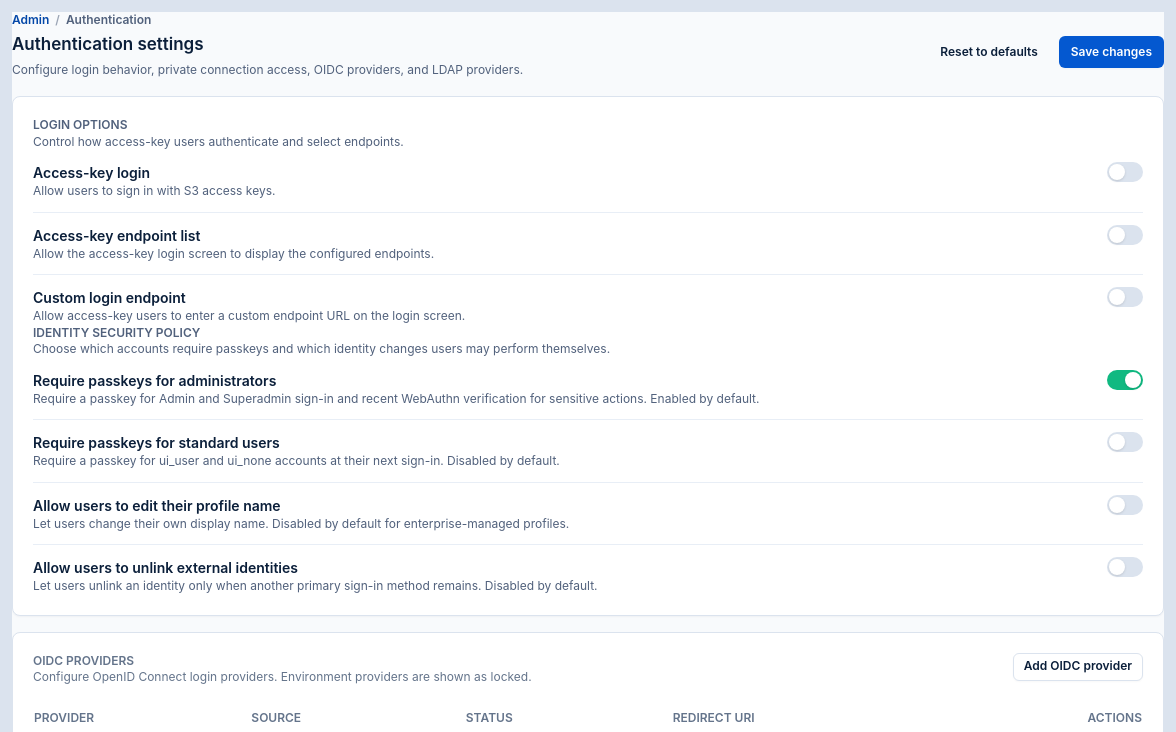
it: AuthenticationSettingsPage › shows the custom endpoint warning only when custom endpoint login is enabled
The width and height of the screenshot is (1176, 732).
Expected: the text "custom endpoints are restricted to public https targets" is not shown
What coordinates should you click on to do the following:
click the checkbox named "Custom login endpoint"
I would click on:
 (1125, 297)
Its box is top-left (1107, 287), bottom-right (1143, 307).
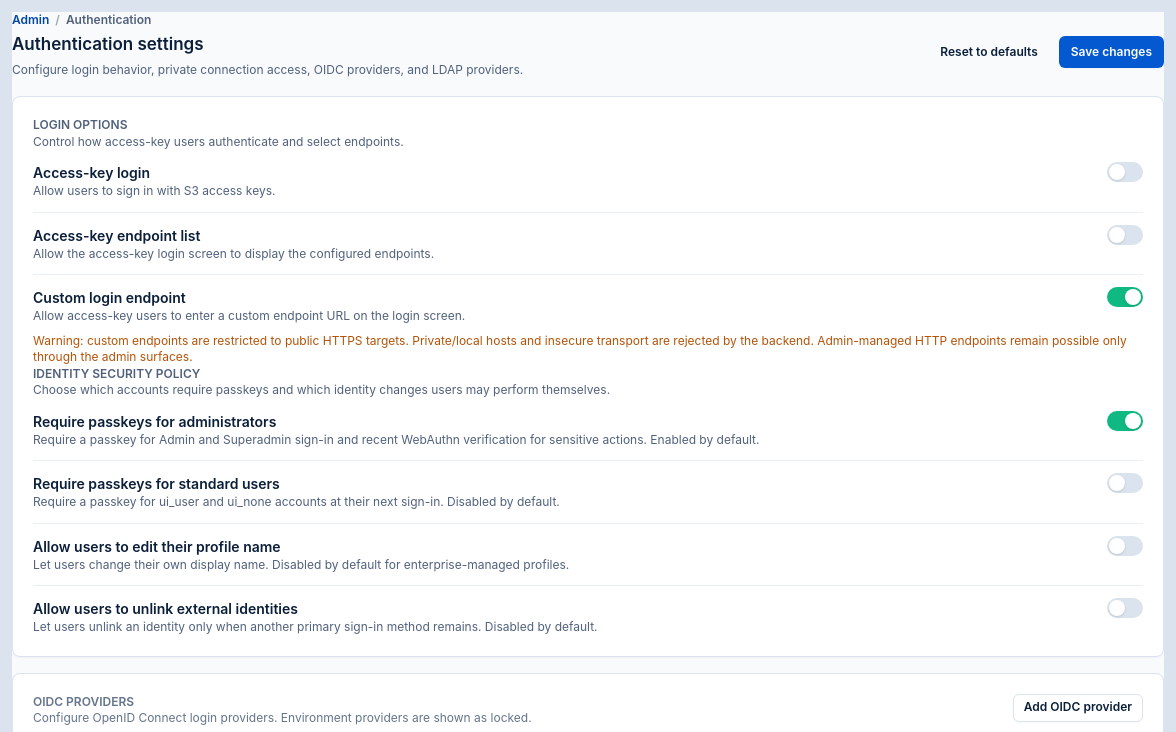
Expected: the text "custom endpoints are restricted to public HTTPS targets" is shown, top-left (33, 332), bottom-right (1127, 364)
